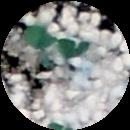Basil: (48, 38, 89, 62), (25, 27, 61, 48)
